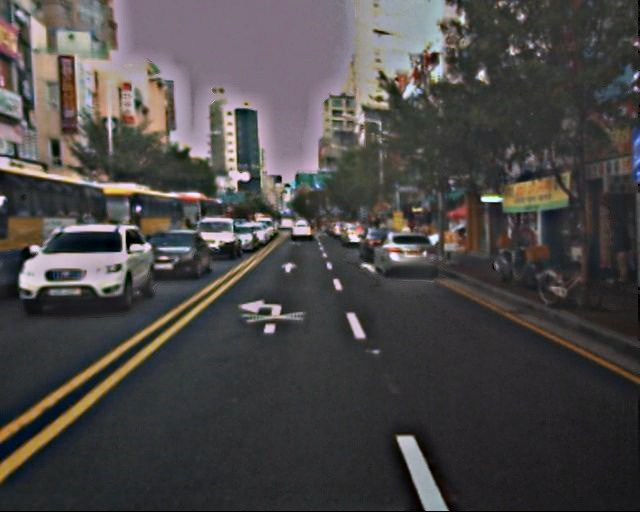person: (595, 216, 632, 287)
